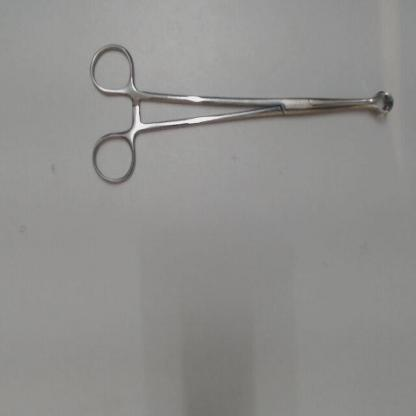8 Babcock Tissue Forceps: (87, 35, 399, 189)
